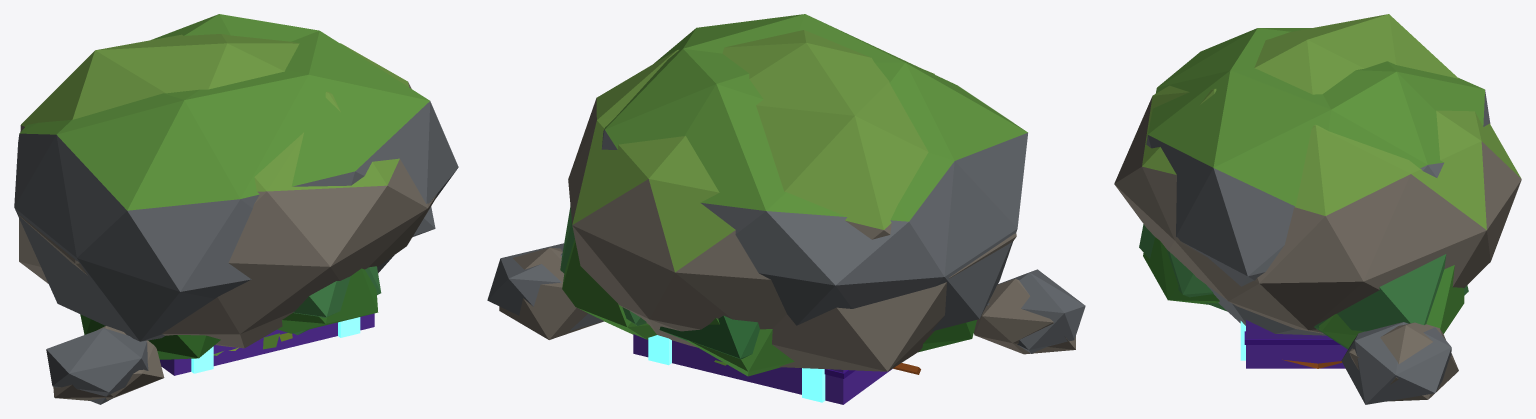
The model's file is Yardsweep-Cleanables.glb.
3 views of the same model, side by side, from view 1: azimuth 30°, elevation 25°; view 2: azimuth 150°, elevation 25°; view 3: azimuth 270°, elevation 25° (orthographic). The views are drawn at different scales.
Visible parts, largest first — view 1: boulder_0, boulder_1, bush_0, gemChest_0, bush_1; view 2: boulder_1, boulder_0, gemChest_0, bush_0, bush_1; view 3: boulder_1, boulder_0, bush_1, bush_0, gemChest_0.
Part boxes in pixels (x1,y1,x2,y2): boulder_0: (14, 14, 458, 404); boulder_1: (19, 34, 436, 400); bush_0: (80, 268, 378, 359); gemChest_0: (160, 313, 374, 375); bush_1: (293, 266, 381, 335); boulder_1: (499, 30, 1075, 371); boulder_0: (487, 14, 1085, 353); gemChest_0: (633, 334, 891, 404); bush_0: (562, 239, 976, 376); bush_1: (560, 206, 759, 359); boulder_1: (1114, 14, 1521, 401); boulder_0: (1146, 28, 1490, 404); bush_1: (1139, 224, 1468, 349); bush_0: (1143, 237, 1464, 347); gemChest_0: (1240, 320, 1347, 368).
Size of the model in its own units: 1.89 by 1.13 by 1.51.
